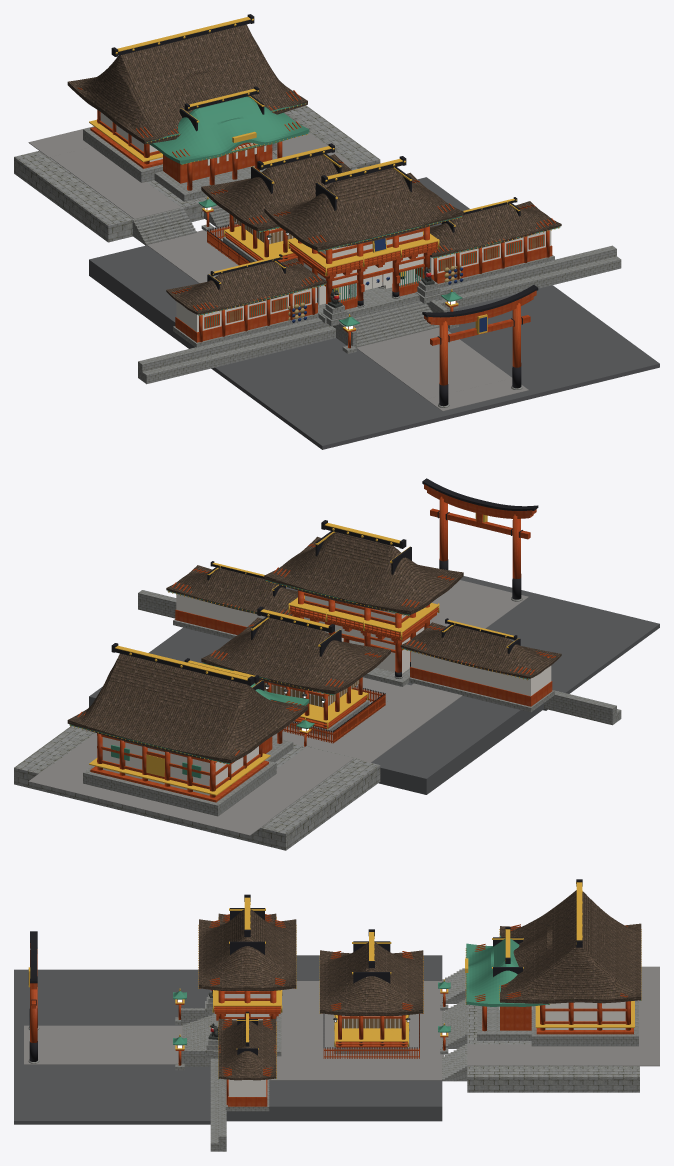
The model's file is Fushimi_Inari_Interactive_Fast.glb.
3 renders of one model, top to bottom at view 1: azimuth 30°, elevation 25°; view 2: azimuth 150°, elevation 25°; view 3: azimuth 270°, elevation 25°, orthographic. The views are drawn at different scales.
Visible parts, largest first — view 1: Batch_MAT_Hiwadabuki_Bark_Roof, Batch_MAT_Courtyard_Gravel_Dark, Batch_MAT_Granite_Stone_Moss, Batch_MAT_Vermilion_ShuIro, Batch_MAT_Flagstone_Walkway, Batch_MAT_Copper_Patina_Green, Batch_MAT_Gold_Kanagu_Leaf, Batch_MAT_Black_Lacquer_Nemaki, Batch_MAT_White_Shikku_Plaster; view 2: Batch_MAT_Hiwadabuki_Bark_Roof, Batch_MAT_Courtyard_Gravel_Dark, Batch_MAT_Flagstone_Walkway, Batch_MAT_Granite_Stone_Moss, Batch_MAT_Vermilion_ShuIro, Batch_MAT_White_Shikku_Plaster, Batch_MAT_Gold_Kanagu_Leaf, Batch_MAT_Black_Lacquer_Nemaki, Batch_MAT_Copper_Patina_Green; view 3: Batch_MAT_Courtyard_Gravel_Dark, Batch_MAT_Hiwadabuki_Bark_Roof, Batch_MAT_Flagstone_Walkway, Batch_MAT_Granite_Stone_Moss, Batch_MAT_Vermilion_ShuIro, Batch_MAT_Gold_Kanagu_Leaf, Batch_MAT_Copper_Patina_Green, Batch_MAT_White_Shikku_Plaster, Batch_MAT_Black_Lacquer_Nemaki, Batch_MAT_Sudare_Bamboo_Blind.
Boxes of the visible parts, left/top/right/bottom form: Batch_MAT_Hiwadabuki_Bark_Roof: left=67, top=24, right=561, bottom=314; Batch_MAT_Courtyard_Gravel_Dark: left=89, top=177, right=659, bottom=449; Batch_MAT_Granite_Stone_Moss: left=14, top=105, right=621, bottom=407; Batch_MAT_Vermilion_ShuIro: left=77, top=87, right=558, bottom=385; Batch_MAT_Flagstone_Walkway: left=28, top=126, right=528, bottom=411; Batch_MAT_Copper_Patina_Green: left=146, top=96, right=560, bottom=327; Batch_MAT_Gold_Kanagu_Leaf: left=89, top=17, right=559, bottom=334; Batch_MAT_Black_Lacquer_Nemaki: left=111, top=14, right=538, bottom=406; Batch_MAT_White_Shikku_Plaster: left=100, top=112, right=551, bottom=332; Batch_MAT_Hiwadabuki_Bark_Roof: left=67, top=532, right=561, bottom=763; Batch_MAT_Courtyard_Gravel_Dark: left=89, top=576, right=659, bottom=794; Batch_MAT_Flagstone_Walkway: left=28, top=580, right=528, bottom=835; Batch_MAT_Granite_Stone_Moss: left=14, top=590, right=621, bottom=850; Batch_MAT_Vermilion_ShuIro: left=77, top=484, right=555, bottom=802; Batch_MAT_White_Shikku_Plaster: left=102, top=594, right=551, bottom=795; Batch_MAT_Gold_Kanagu_Leaf: left=70, top=513, right=527, bottom=795; Batch_MAT_Black_Lacquer_Nemaki: left=111, top=478, right=538, bottom=731; Batch_MAT_Copper_Patina_Green: left=69, top=580, right=529, bottom=778; Batch_MAT_Courtyard_Gravel_Dark: left=14, top=955, right=442, bottom=1124; Batch_MAT_Hiwadabuki_Bark_Roof: left=199, top=890, right=641, bottom=1080; Batch_MAT_Flagstone_Walkway: left=24, top=966, right=659, bottom=1080; Batch_MAT_Granite_Stone_Moss: left=28, top=968, right=639, bottom=1151; Batch_MAT_Vermilion_ShuIro: left=30, top=914, right=639, bottom=1106; Batch_MAT_Gold_Kanagu_Leaf: left=28, top=882, right=641, bottom=1078; Batch_MAT_Copper_Patina_Green: left=173, top=935, right=641, bottom=1078; Batch_MAT_White_Shikku_Plaster: left=211, top=994, right=625, bottom=1096; Batch_MAT_Black_Lacquer_Nemaki: left=29, top=879, right=582, bottom=1061; Batch_MAT_Sudare_Bamboo_Blind: left=342, top=1018, right=401, bottom=1028.
Bounding box in the file's own units: 50.6 × 15.38 × 65.
15 materials, 4 textured.
